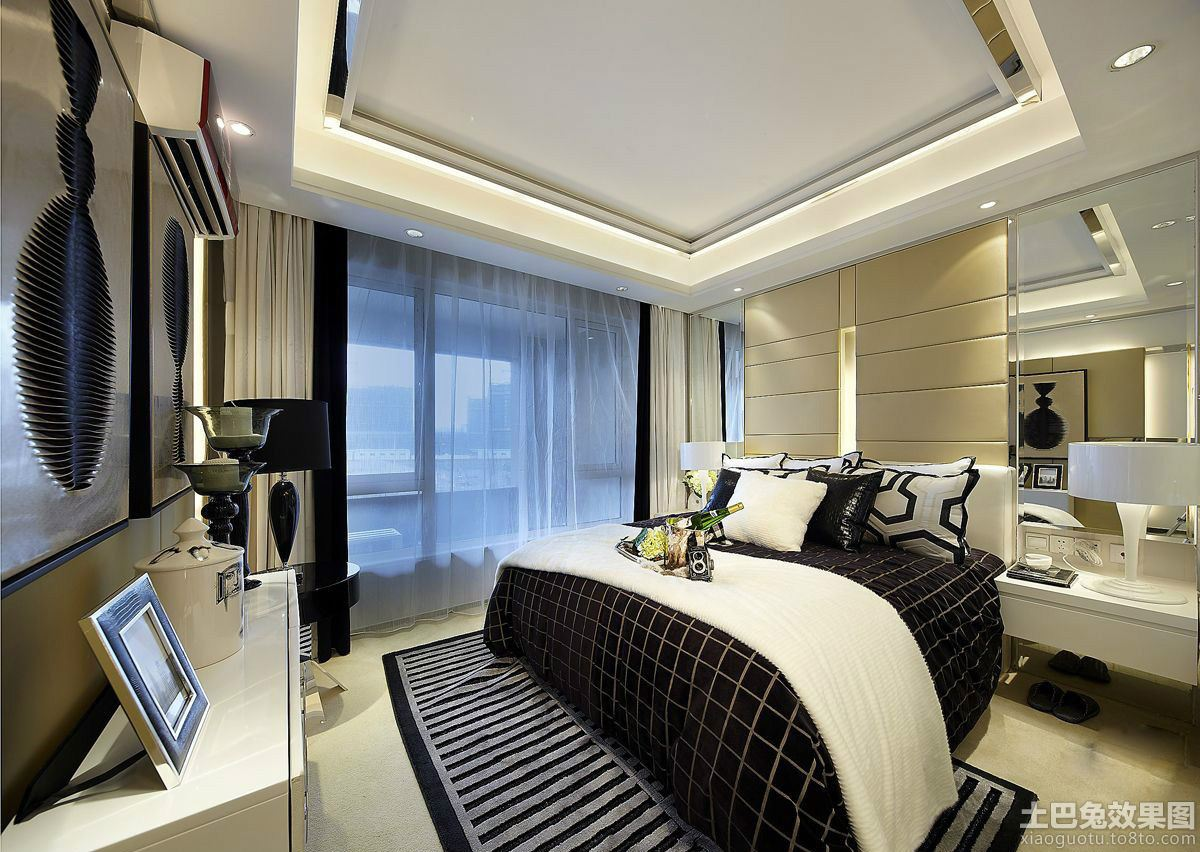床: (496, 517, 1000, 823)
枕头: (693, 452, 1002, 566)
灯: (1059, 436, 1197, 609), (229, 393, 341, 591), (672, 436, 726, 481), (1105, 44, 1161, 78), (217, 106, 260, 146), (982, 197, 1008, 218), (405, 228, 432, 246), (616, 280, 638, 297), (732, 283, 751, 299)
